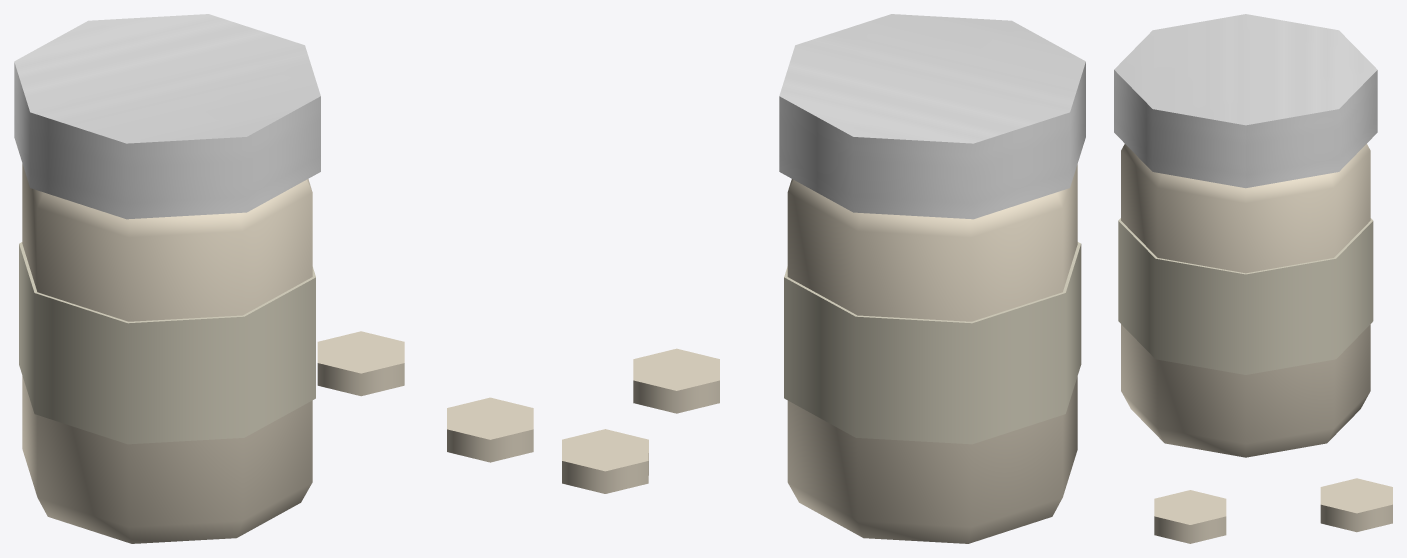
The model's file is drug_pills.obj.
3 renders of one model, left to right at view 1: azimuth 30°, elevation 25°; view 2: azimuth 150°, elevation 25°; view 3: azimuth 270°, elevation 25°, orthographic. The views are drawn at different scales.
Parts seen in each view (by area): view 1: part_000_pill, part_009_gun_white, part_018_label, part_027_pill, part_034_pill; view 2: part_000_pill, part_009_gun_white, part_018_label, part_034_pill, part_027_pill; view 3: part_000_pill, part_009_gun_white, part_018_label, part_027_pill, part_034_pill.
Part boxes in pixels (box(x1,y1,x2,y2)): part_000_pill: box(22, 164, 312, 543); part_009_gun_white: box(14, 14, 320, 219); part_018_label: box(19, 242, 315, 444); part_027_pill: box(317, 331, 404, 396); part_034_pill: box(447, 397, 533, 462); part_000_pill: box(787, 164, 1077, 543); part_009_gun_white: box(779, 14, 1085, 219); part_018_label: box(784, 242, 1081, 444); part_034_pill: box(633, 348, 719, 413); part_027_pill: box(562, 429, 648, 493); part_000_pill: box(1121, 144, 1370, 457); part_009_gun_white: box(1114, 14, 1377, 188); part_018_label: box(1118, 218, 1373, 374); part_027_pill: box(1320, 478, 1392, 532); part_034_pill: box(1154, 490, 1226, 543).
Bounding box in the file's own units: 0.325 × 0.27 × 0.201.
